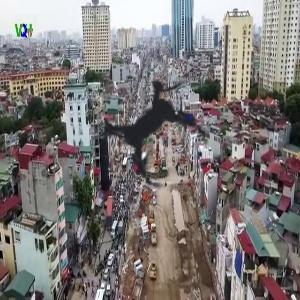drone: (54, 24, 256, 226)
